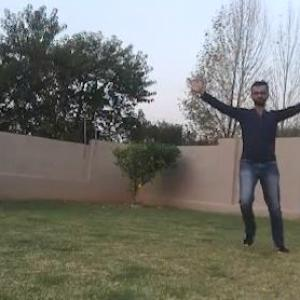takeoff: (179, 82, 299, 245)
